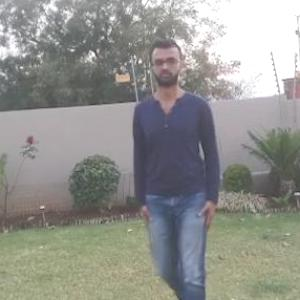follow: (122, 38, 217, 299)
